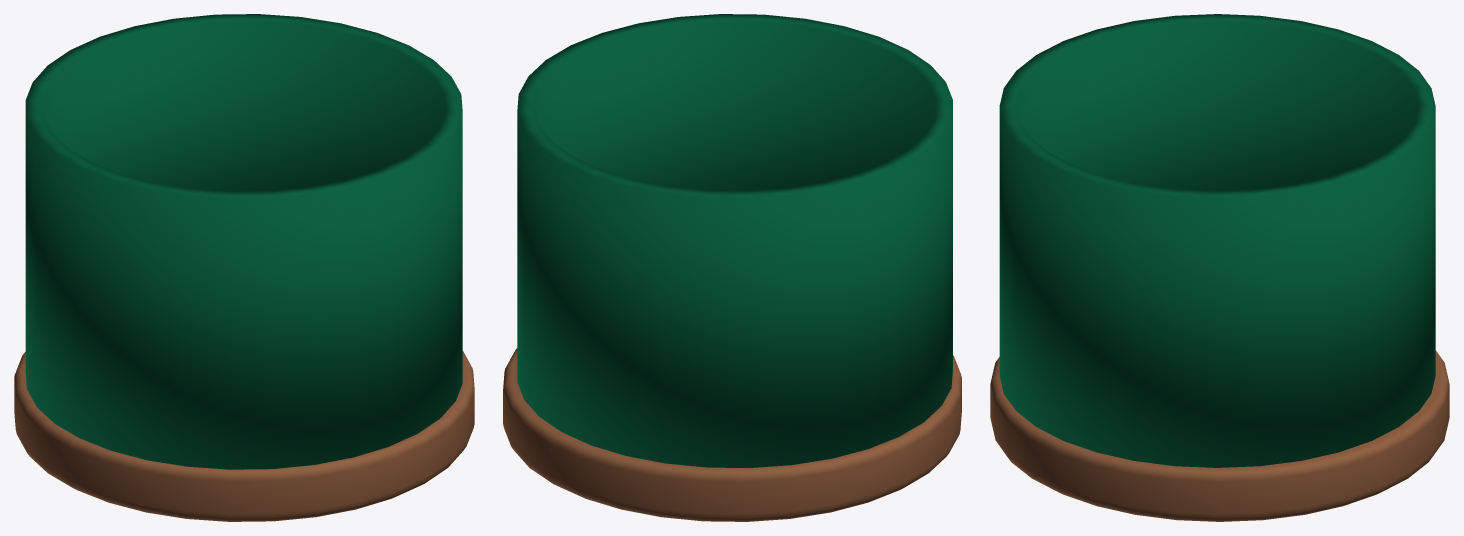
The model's file is TV_HeadJar.fbx.
3 views of the same model, side by side, from view 1: azimuth 30°, elevation 25°; view 2: azimuth 150°, elevation 25°; view 3: azimuth 270°, elevation 25° (orthographic).
Visible parts, largest first — view 1: TV_HeadJar; view 2: TV_HeadJar; view 3: TV_HeadJar.
Boxes of the visible parts, <box> form: TV_HeadJar: <box>14,14,474,521</box>; TV_HeadJar: <box>503,14,961,521</box>; TV_HeadJar: <box>990,14,1449,521</box>.
Bounding box in the file's own units: 108 × 83.85 × 108.
